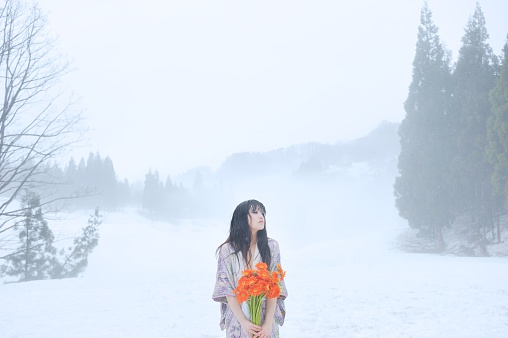em pe: (196, 196, 297, 336)
